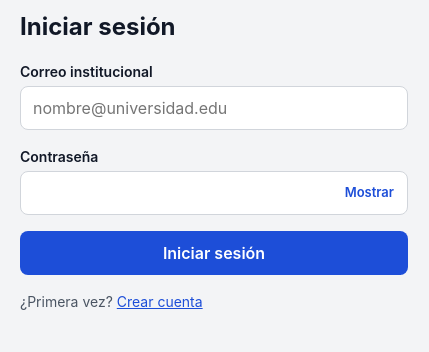
Test: LoginPage (AUTH-16 · CA-1, CA-2, UAT-01) › [AUTH-16] un correo con formato inválido no llega al servidor
In the field labelled "Correo institucional": [214, 108] box [20,86,408,130], type "juan.@gmail"
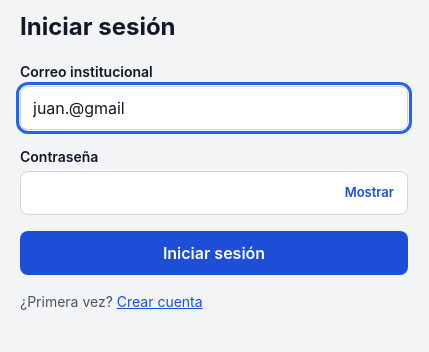
In the password field labelled "Contraseña": [214, 193] box [20,171,408,215], type "Password123"
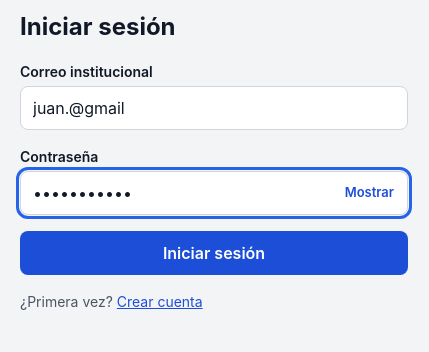
Click the button "Iniciar sesión": [214, 253] box [20,231,408,275]
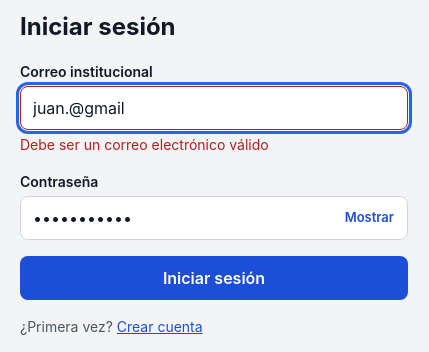
Expected: the text "Debe ser un correo electrónico válido" is shown, [20,136,269,153]
